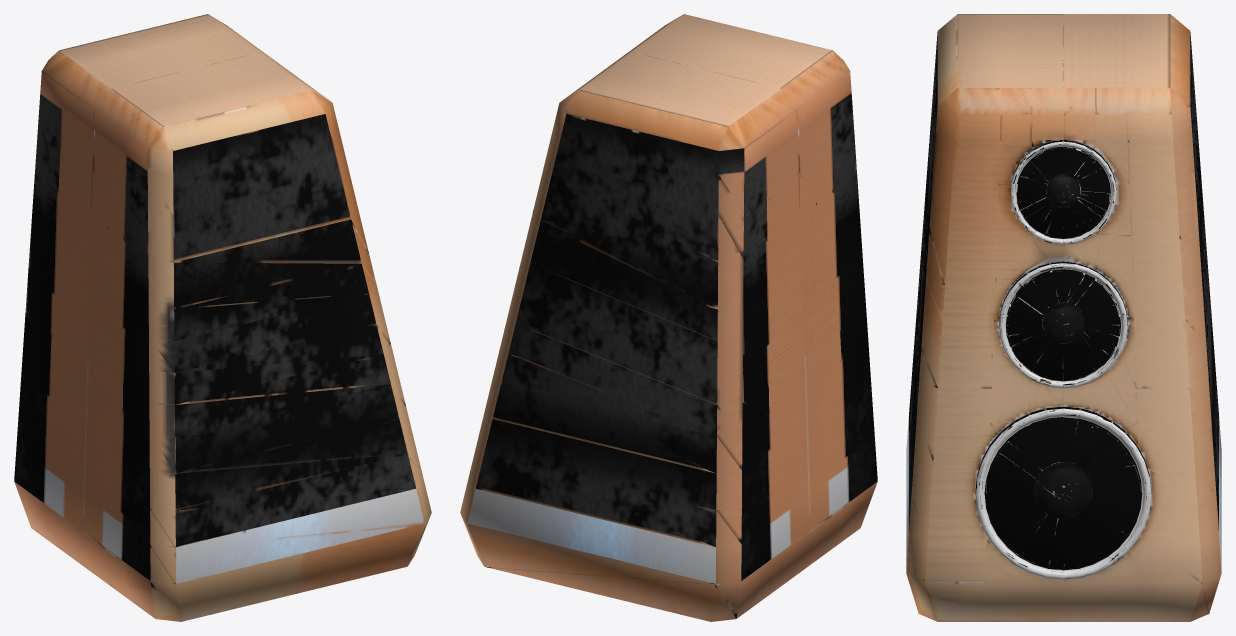
Rendered from SpeakerRectBlue.glb.
3 renders of one model, left to right at view 1: azimuth 30°, elevation 25°; view 2: azimuth 150°, elevation 25°; view 3: azimuth 270°, elevation 25°, orthographic.
Visible parts, largest first — view 1: 1-speaker-Eidolon-LP.002; view 2: 1-speaker-Eidolon-LP.002; view 3: 1-speaker-Eidolon-LP.002.
Boxes of the visible parts, x1=… form: 1-speaker-Eidolon-LP.002: x1=14, y1=14, x2=431, y2=621; 1-speaker-Eidolon-LP.002: x1=460, y1=14, x2=877, y2=621; 1-speaker-Eidolon-LP.002: x1=906, y1=14, x2=1221, y2=621.
Size of the model in its own units: 1.27 by 2 by 1.17.
1 material, 1 textured.
